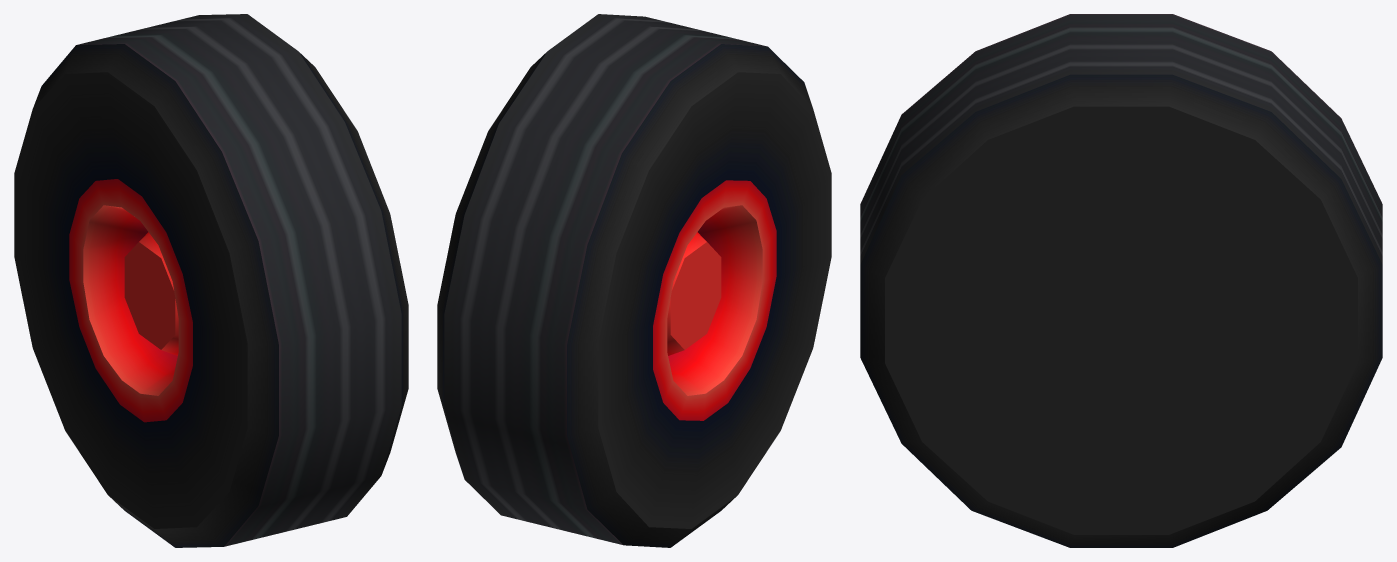
Rendered from fwheel2.glb.
3 views of the same model, side by side, from view 1: azimuth 30°, elevation 25°; view 2: azimuth 150°, elevation 25°; view 3: azimuth 270°, elevation 25° (orthographic).
Visible parts, largest first — view 1: model_2; view 2: model_2; view 3: model_2.
Part boxes in pixels (box(x1,y1,x2,y2)): model_2: box(14, 14, 408, 547); model_2: box(437, 14, 831, 547); model_2: box(860, 14, 1382, 547).
Bounding box in the file's own units: 23.76 × 65.9 × 65.9.
Materials: 1 (1 with a texture image).
